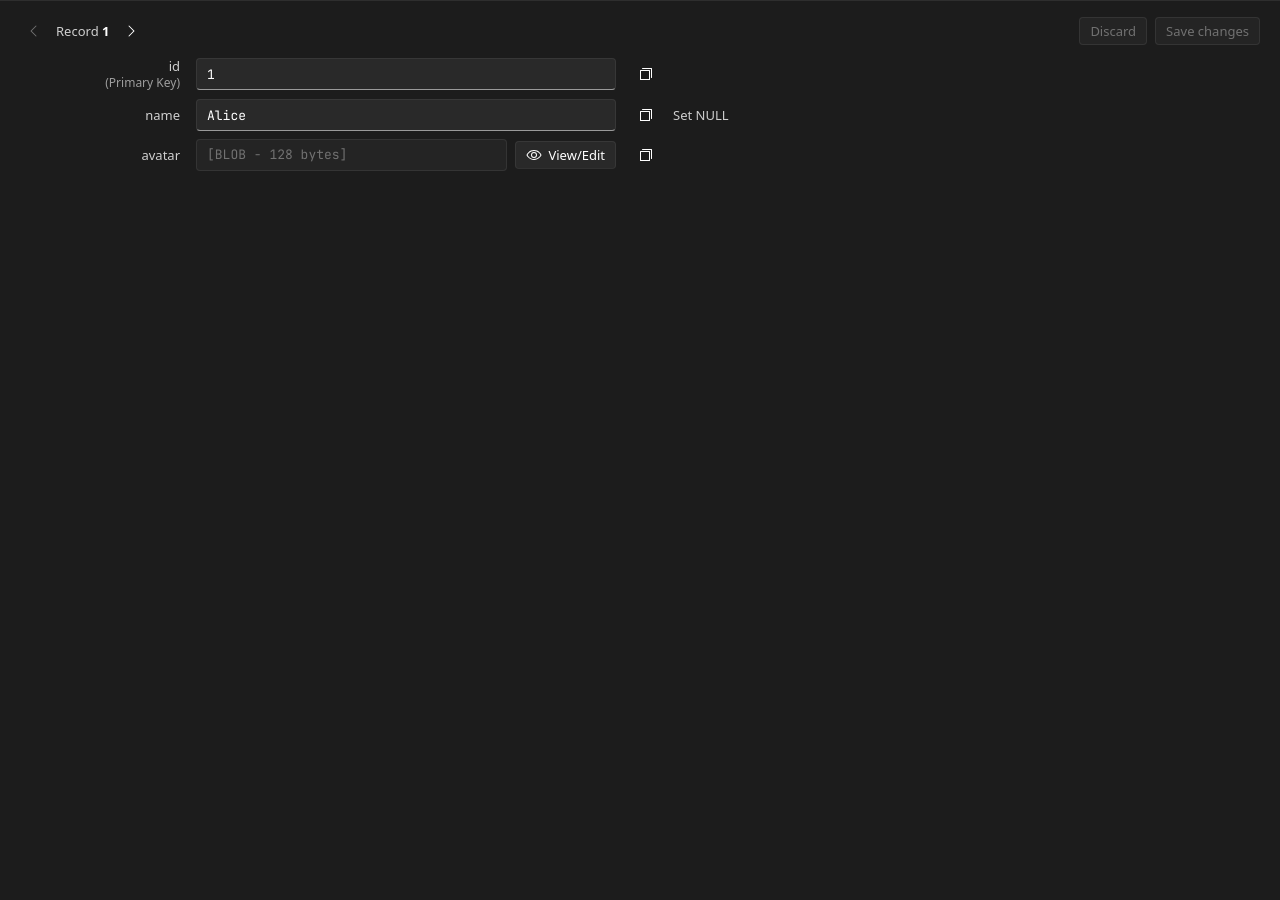
Test: TableDataFormView › opens the BLOB viewer dialog when View/Edit is clicked
Click the button with test id "btn-blob-view-avatar".
click(566, 155)  # box left=515, top=141, right=616, bottom=169
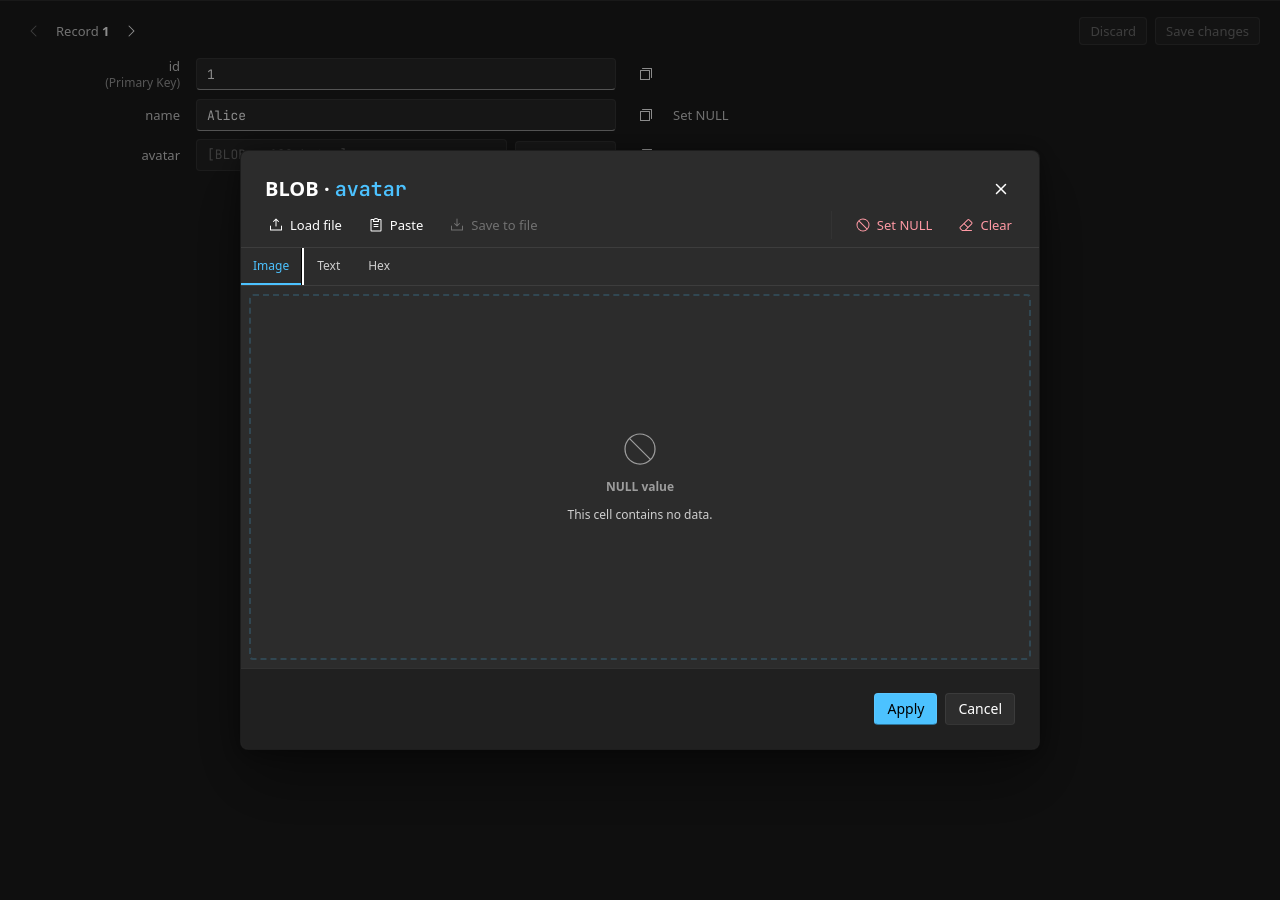
Expected: the dialog with test id "blob-viewer-dialog" is shown
